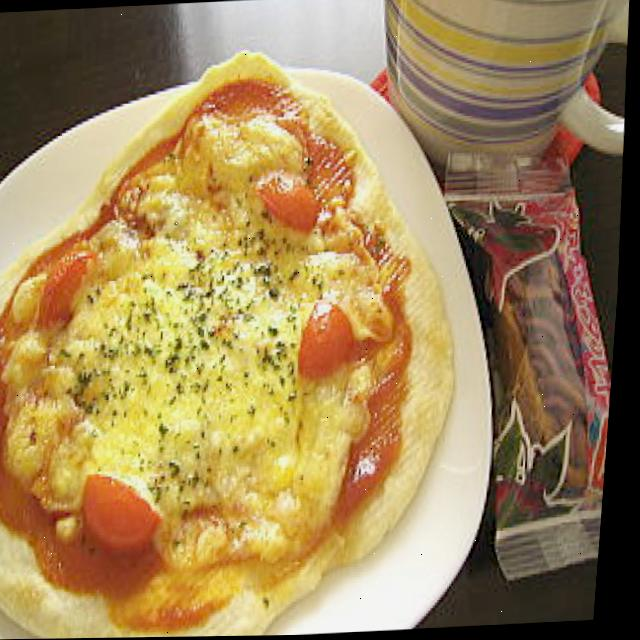汉堡快餐: (0, 28, 487, 640)
